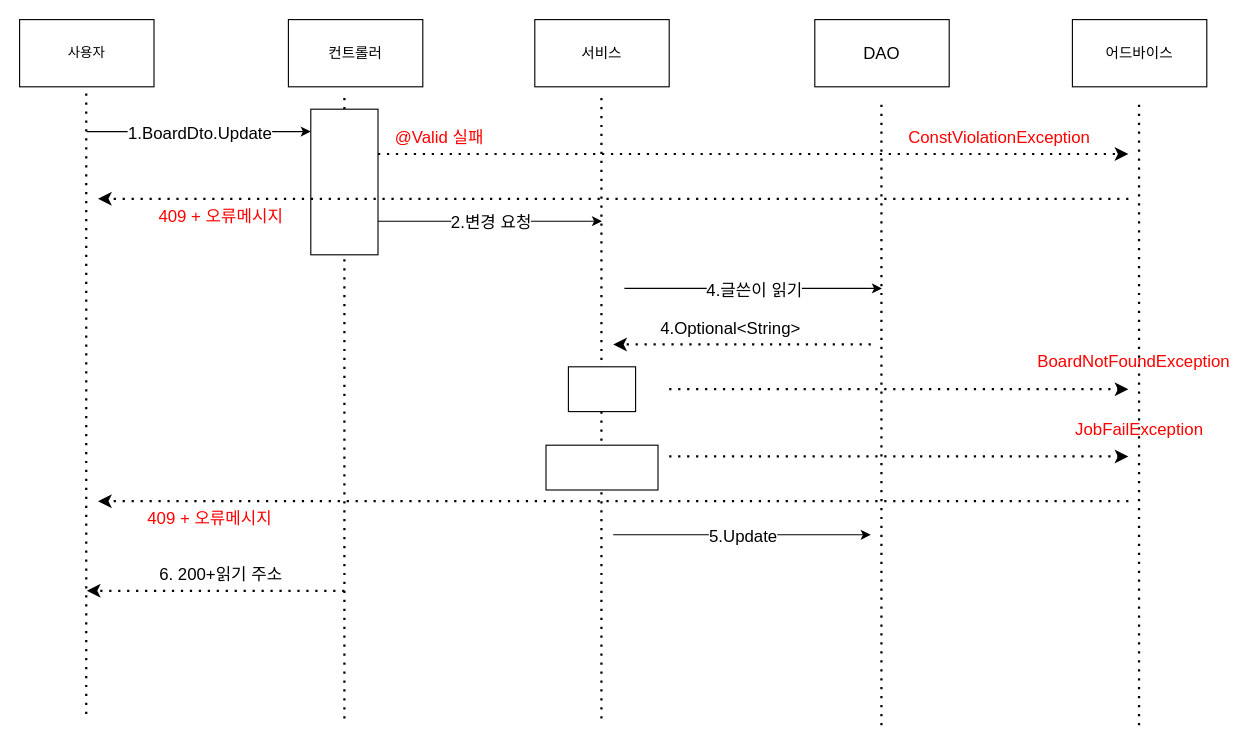
Some shapes in this 1254 by 747 pixel diagram are drawn without their labels. Each missing label, with the centre of its shape:
"empty" goes at (x=601, y=389).
"검증" goes at (x=344, y=181).
"글쓴이 확인" goes at (x=601, y=467).
